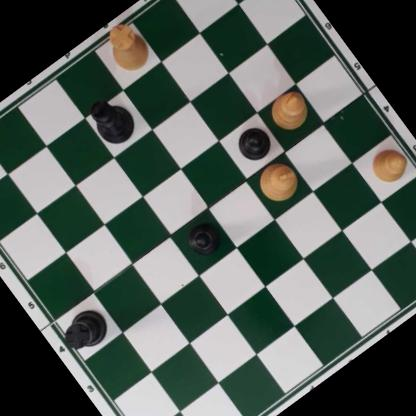black-king: (83, 90, 143, 153)
black-pawn: (230, 120, 277, 167), (180, 216, 225, 262)
black-rook: (57, 302, 115, 358)
white-bishop: (263, 84, 317, 138)
white-king: (252, 154, 306, 209)
white-pawn: (363, 141, 414, 192)
white-rook: (97, 16, 157, 80)
